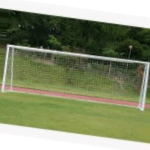goals: (1, 43, 150, 112)
